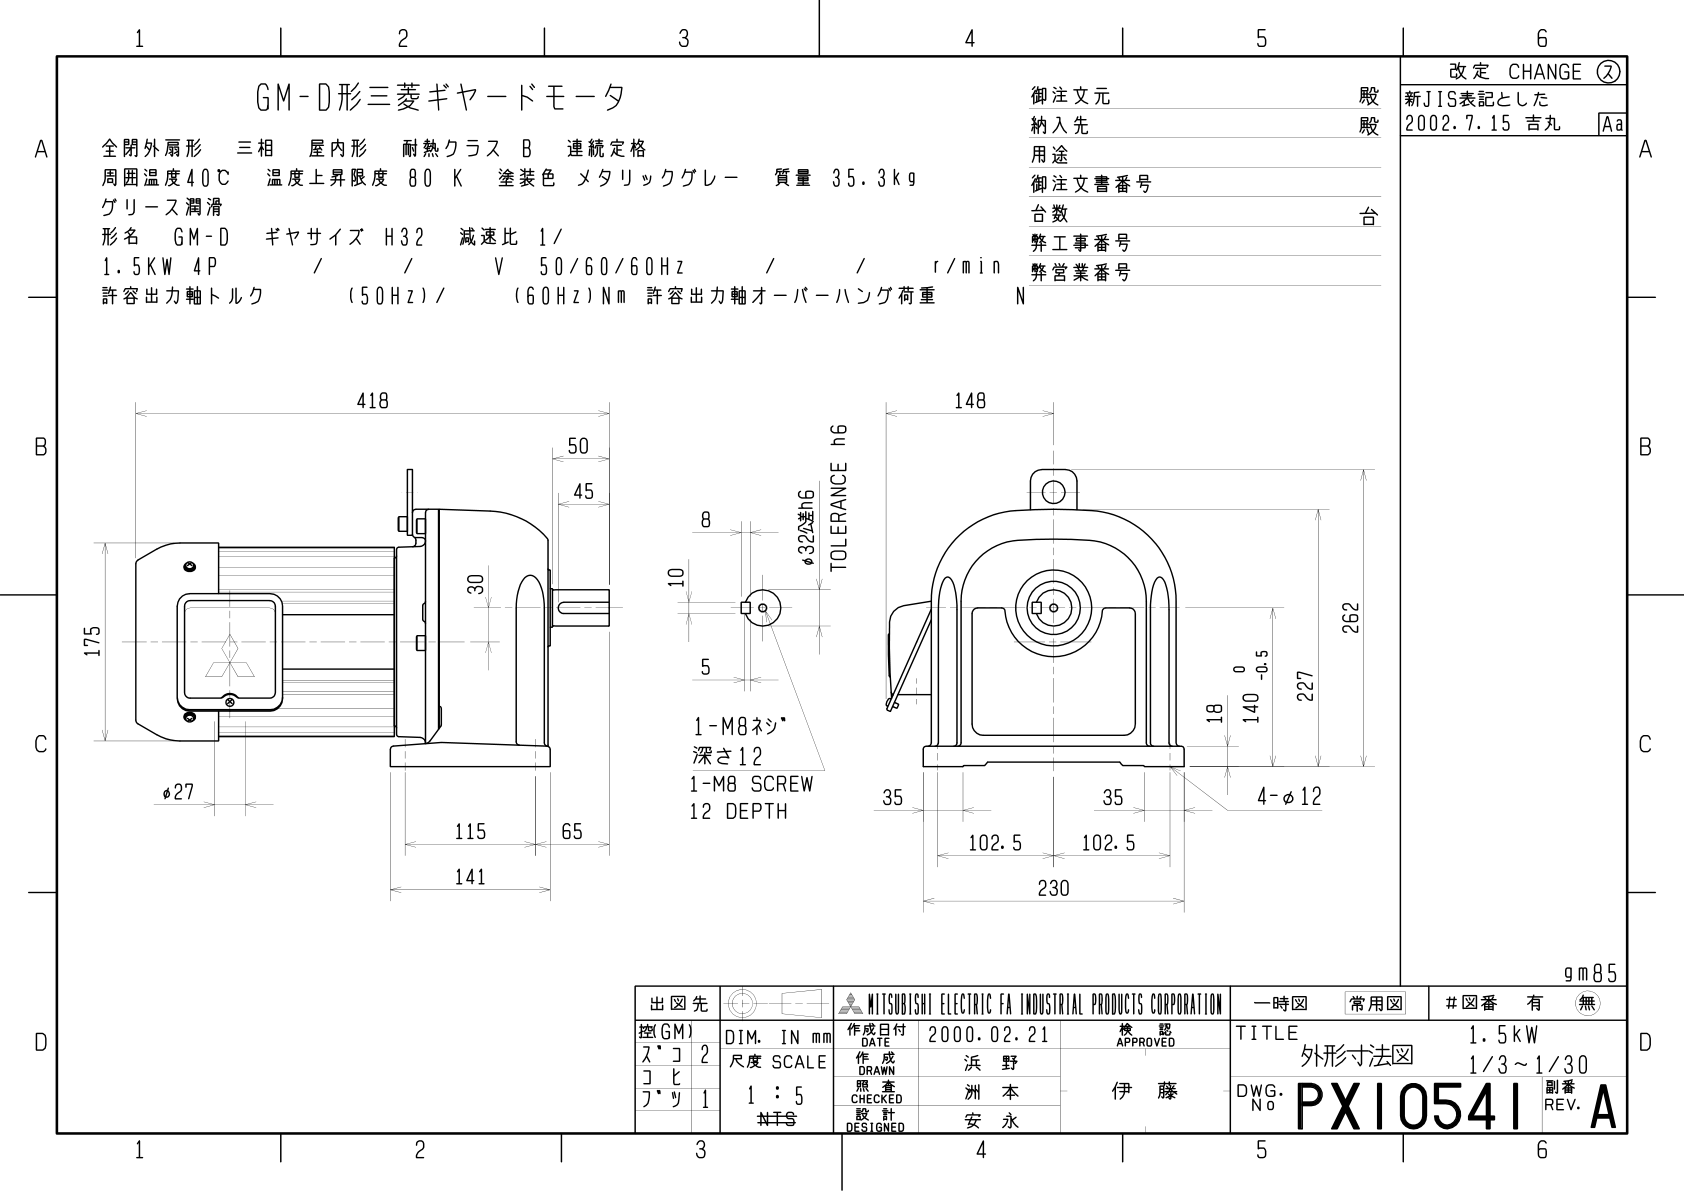GM_D_屋内＿三相_脚: (70, 347, 1393, 953)
